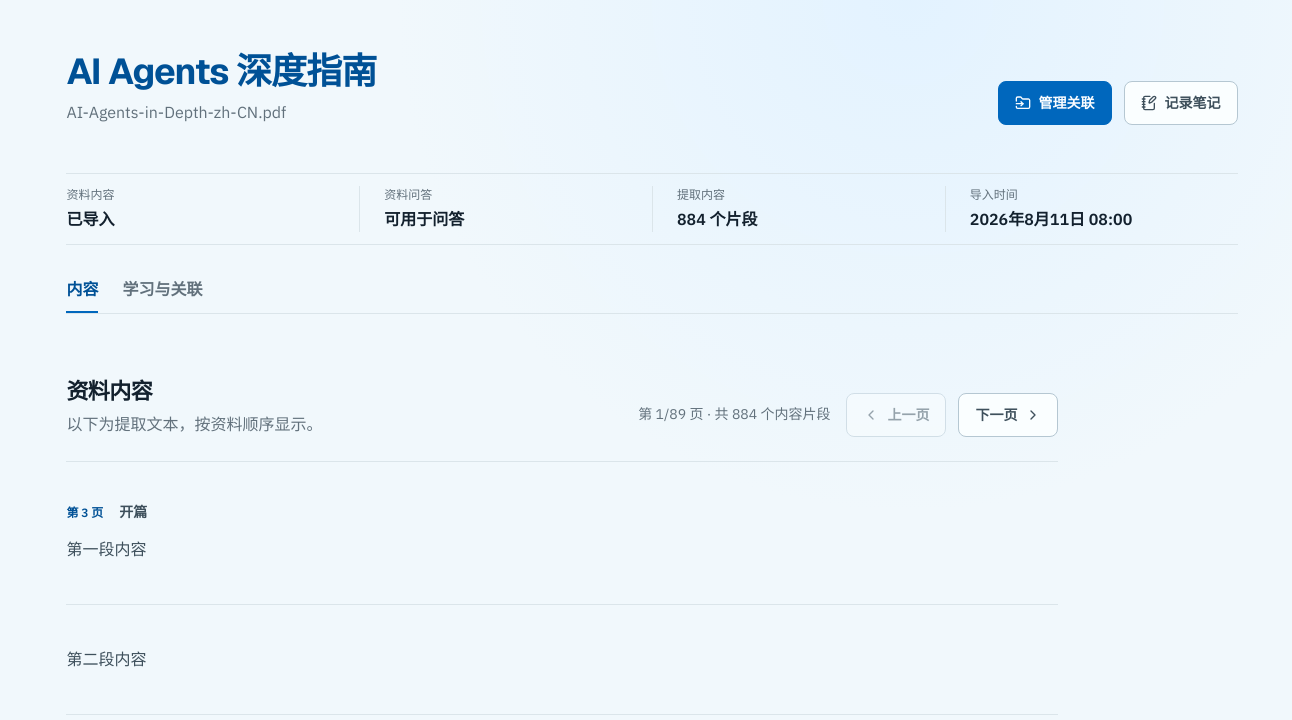
Scenario: Final UX Batch 3C · content surface and pagination › content 与 learning 主体互相隔离
This screenshot has width=1292, height=720.
Expected: the heading "资料内容" is shown, x1=66 y1=376 x2=152 y2=404
Expected: the heading "关联事项" is not shown
What coordinates should you click on to do the following:
click the button "学习与关联"
I would click on:
 (162, 290)
Its box is x1=122 y1=268 x2=202 y2=312.
(page scrolled)
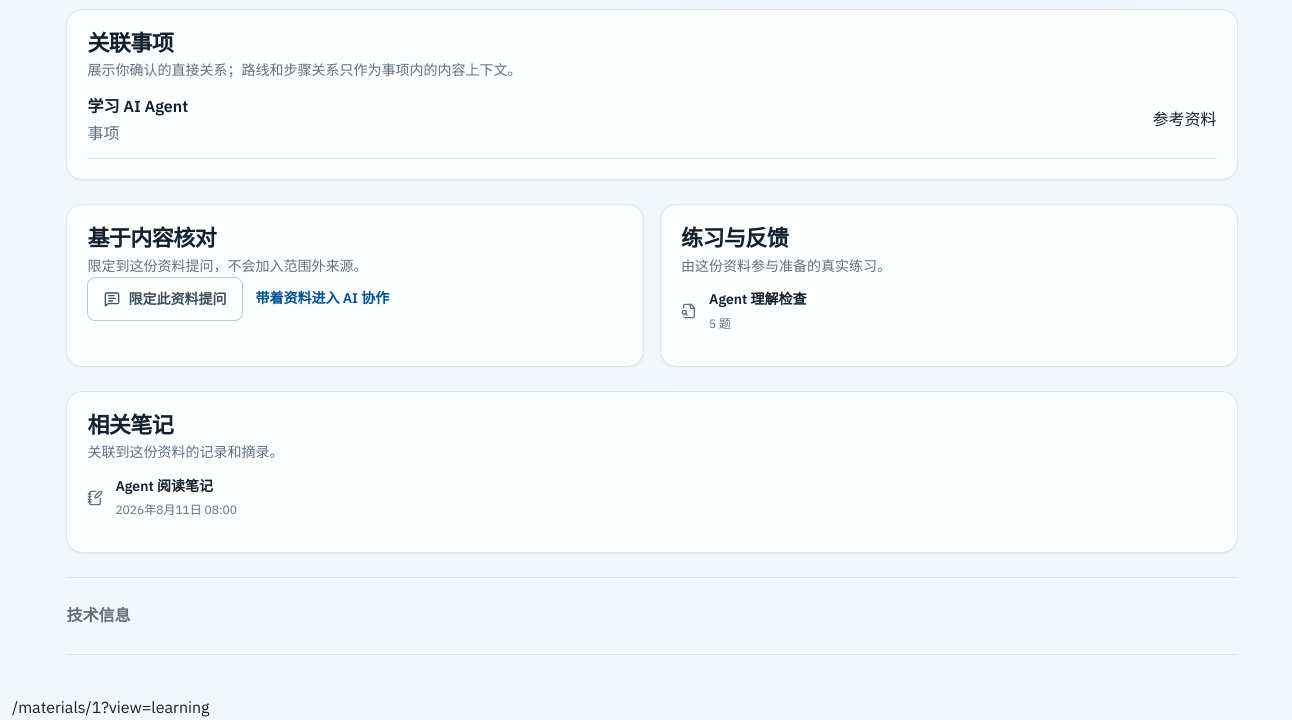
Now the heading "关联事项" is shown, box x1=87 y1=28 x2=173 y2=56
Now the heading "练习与反馈" is shown, box x1=681 y1=224 x2=788 y2=252
Now the heading "相关笔记" is shown, box x1=87 y1=410 x2=173 y2=438
